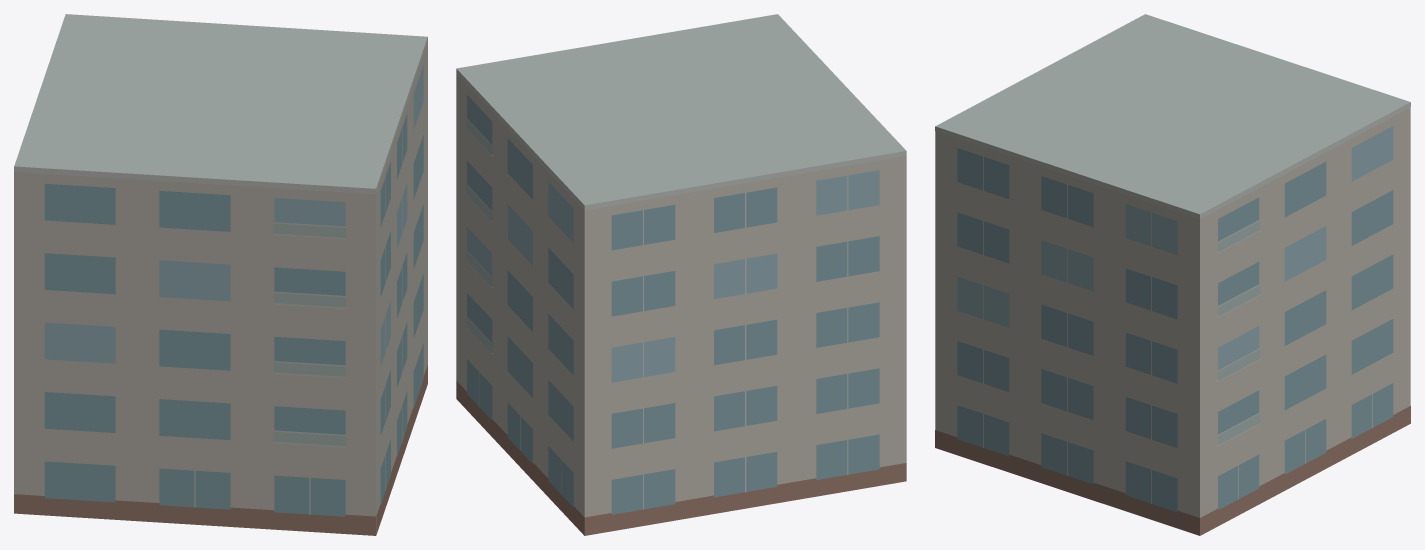
Rendered from survey-upis-32882574.glb.
3 renders of one model, left to right at view 1: azimuth 30°, elevation 25°; view 2: azimuth 150°, elevation 25°; view 3: azimuth 270°, elevation 25°, orthographic. The views are drawn at different scales.
Visible parts, largest first — view 1: survey-upis-32882574.tmp; view 2: survey-upis-32882574.tmp; view 3: survey-upis-32882574.tmp.
Boxes of the visible parts, left/top/right/bottom form: survey-upis-32882574.tmp: left=14, top=14, right=427, bottom=535; survey-upis-32882574.tmp: left=456, top=14, right=906, bottom=535; survey-upis-32882574.tmp: left=935, top=14, right=1410, bottom=535.
Size of the model in its own units: 20.72 by 15.5 by 20.79.
